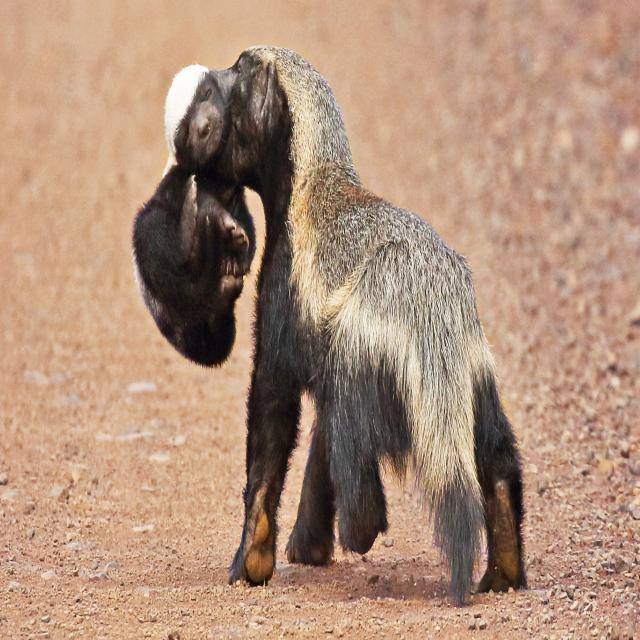Badger: (212, 36, 532, 596)
